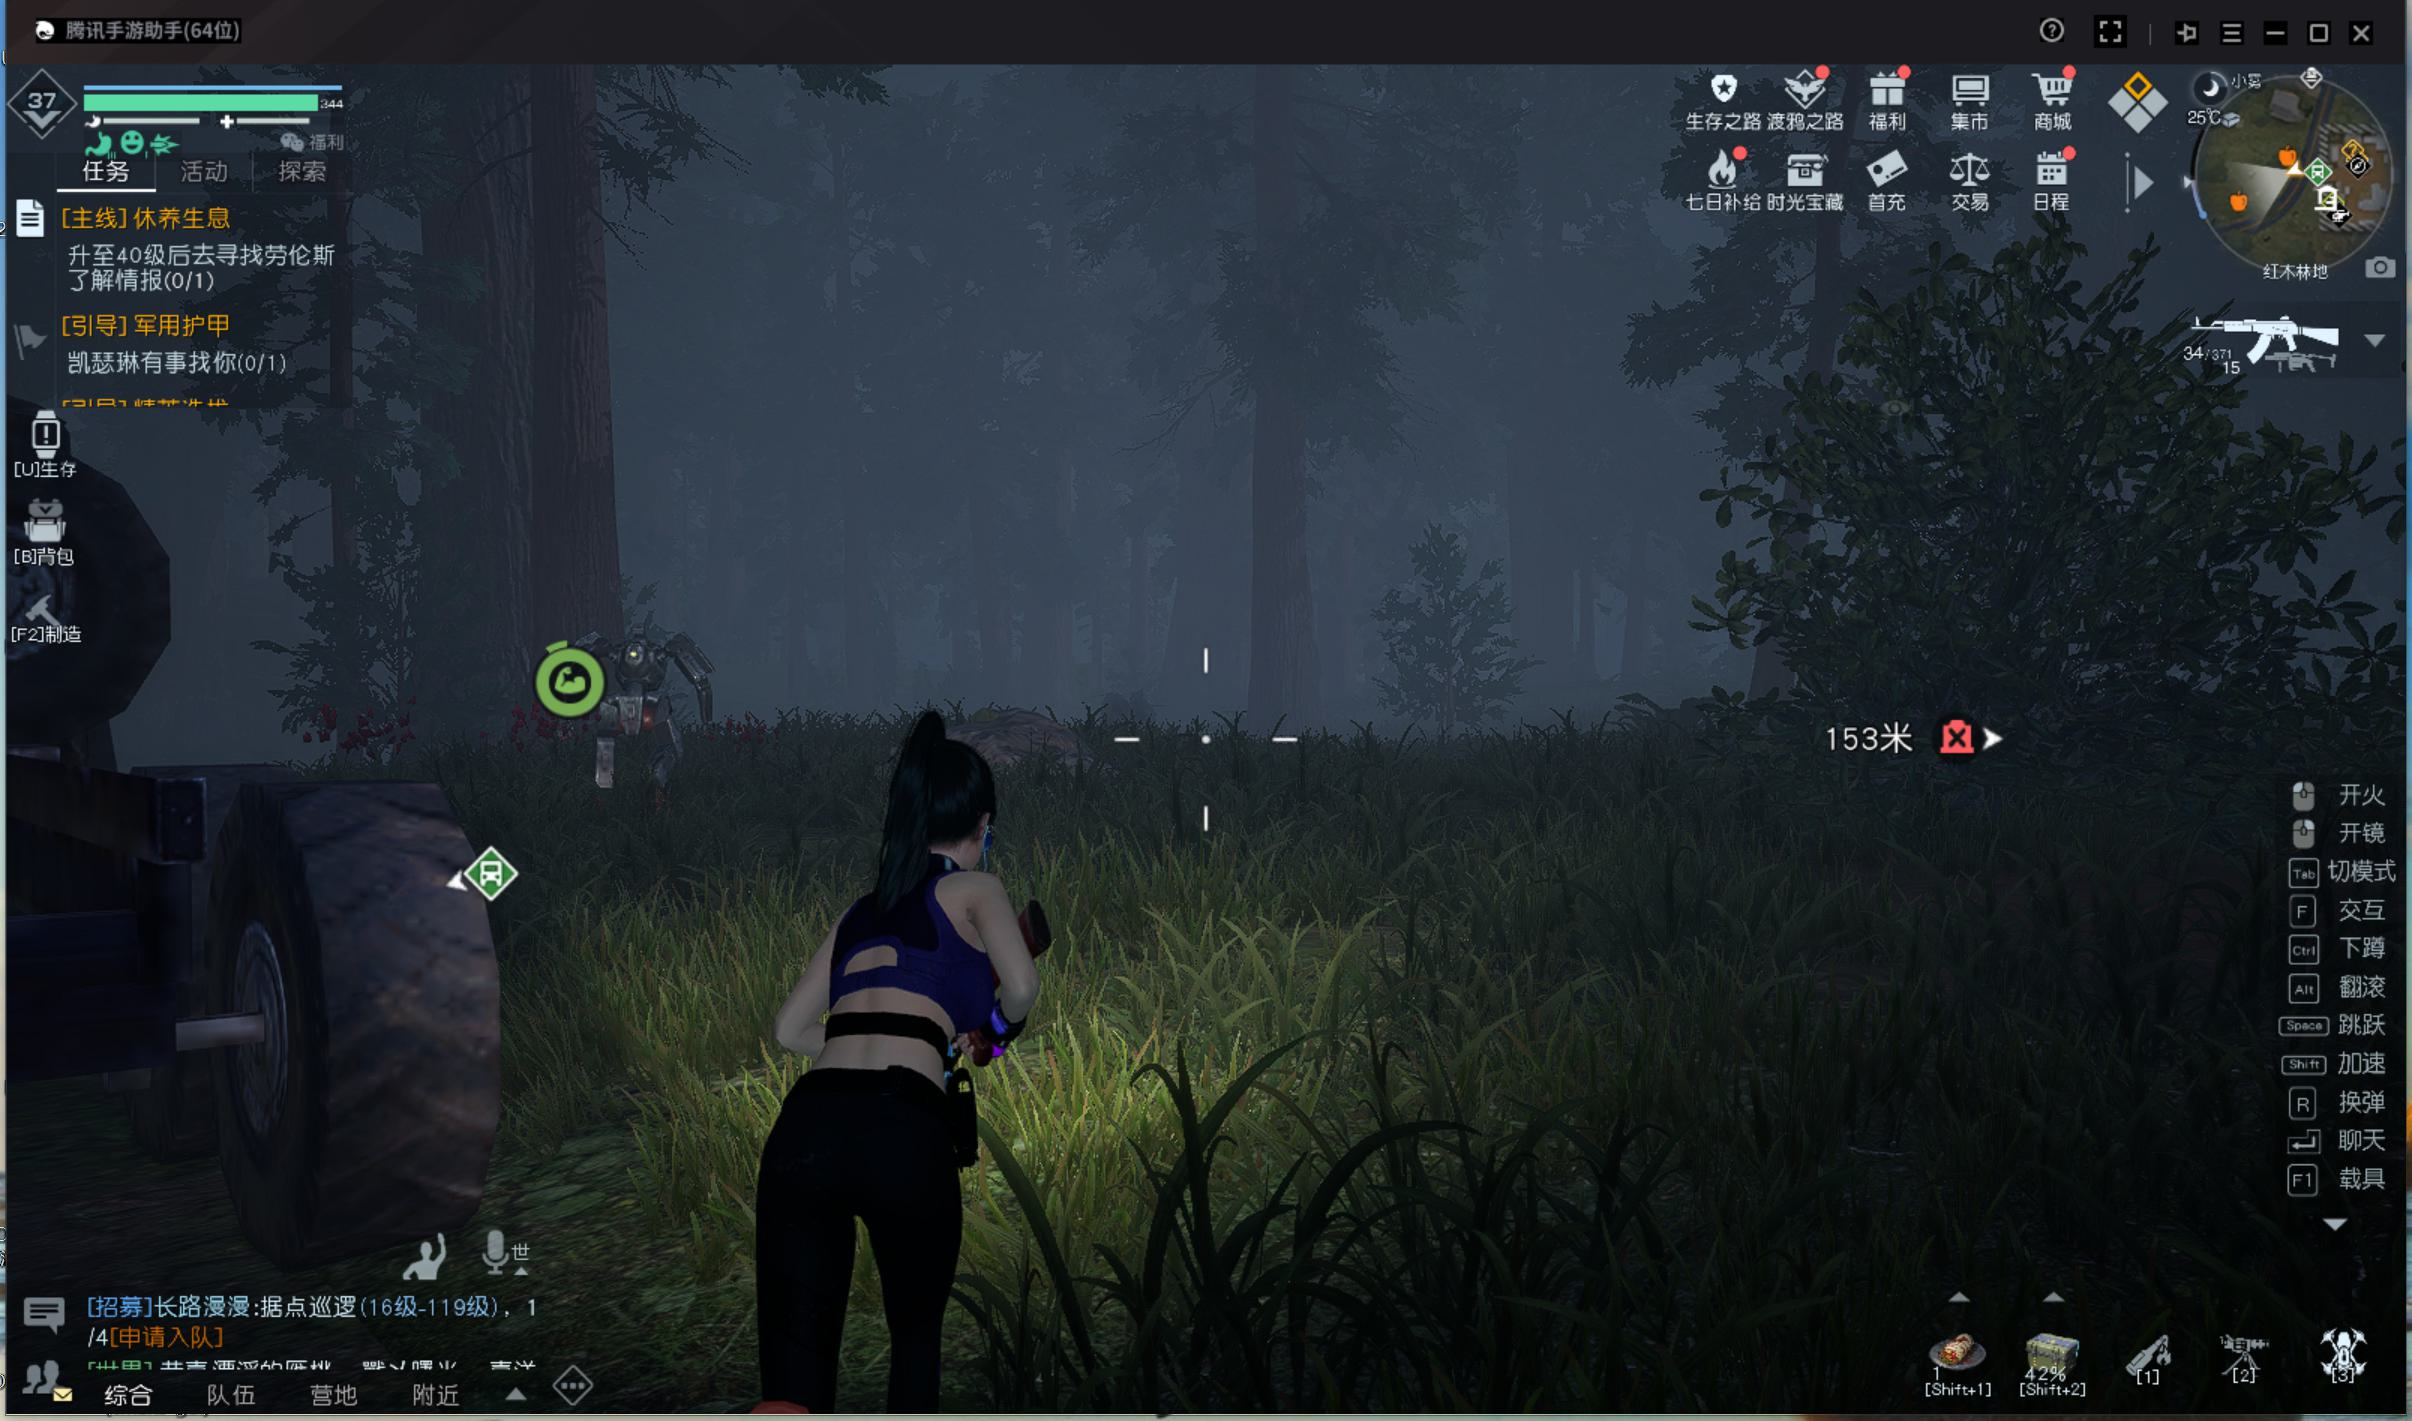tree: (511, 266, 646, 643), (1757, 286, 1828, 748), (1228, 448, 1329, 731), (1620, 535, 1654, 709)
